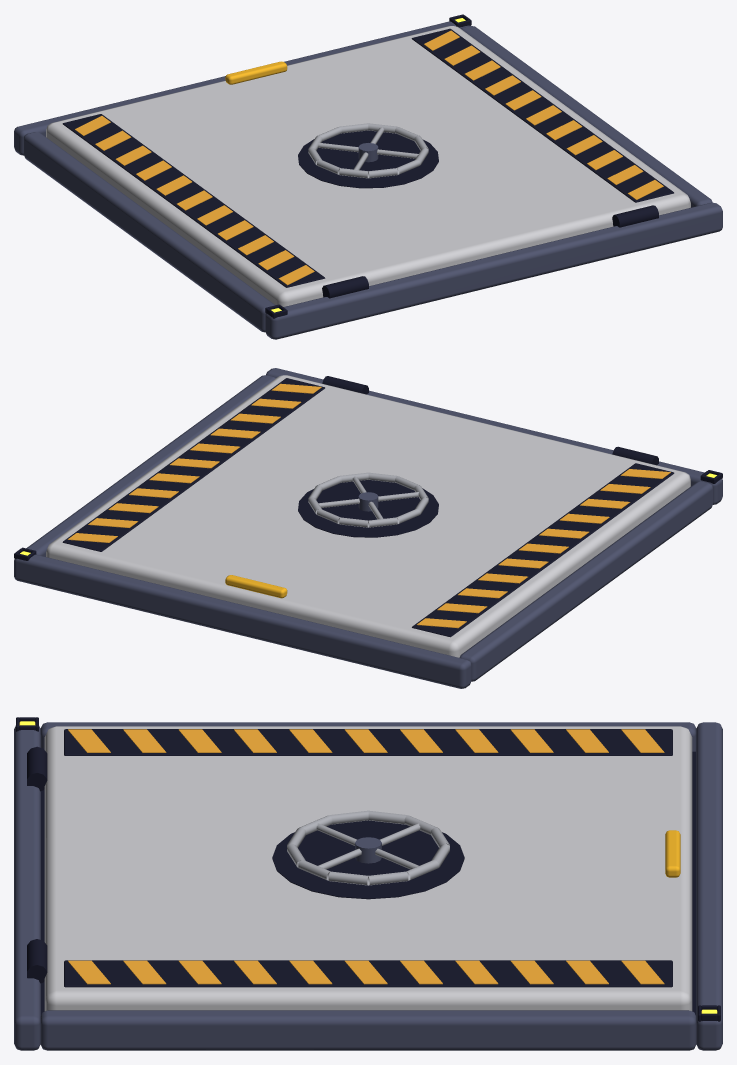
Rendered from roof.hatch.w2.d2.glb.
The picture shows the model from 3 angles, top to bottom: view 1: azimuth 30°, elevation 25°; view 2: azimuth 150°, elevation 25°; view 3: azimuth 270°, elevation 25°; orthographic projection. The views are drawn at different scales.
Visible parts, largest first — view 1: roof.hatch.w2.d2; view 2: roof.hatch.w2.d2; view 3: roof.hatch.w2.d2.
Boxes of the visible parts, box(x1,y1,x2,y2) form: roof.hatch.w2.d2: box(14, 14, 722, 339); roof.hatch.w2.d2: box(14, 368, 722, 688); roof.hatch.w2.d2: box(14, 717, 722, 1050).
Bounding box in the file's own units: 1.84 × 0.175 × 1.84.
